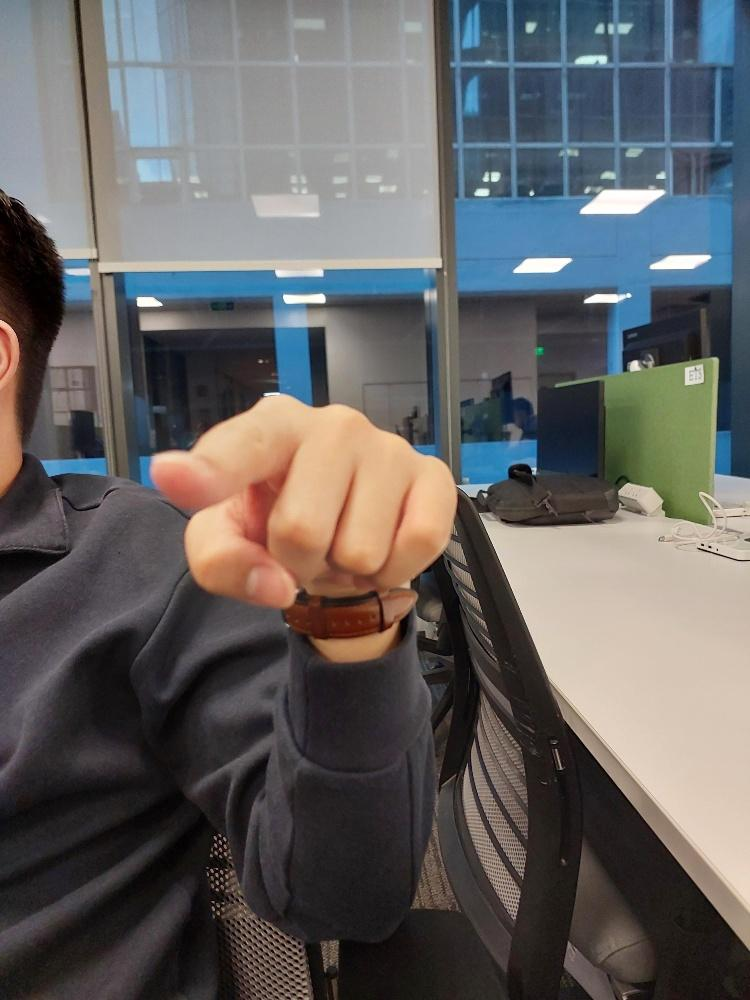z: (149, 391, 455, 606)
